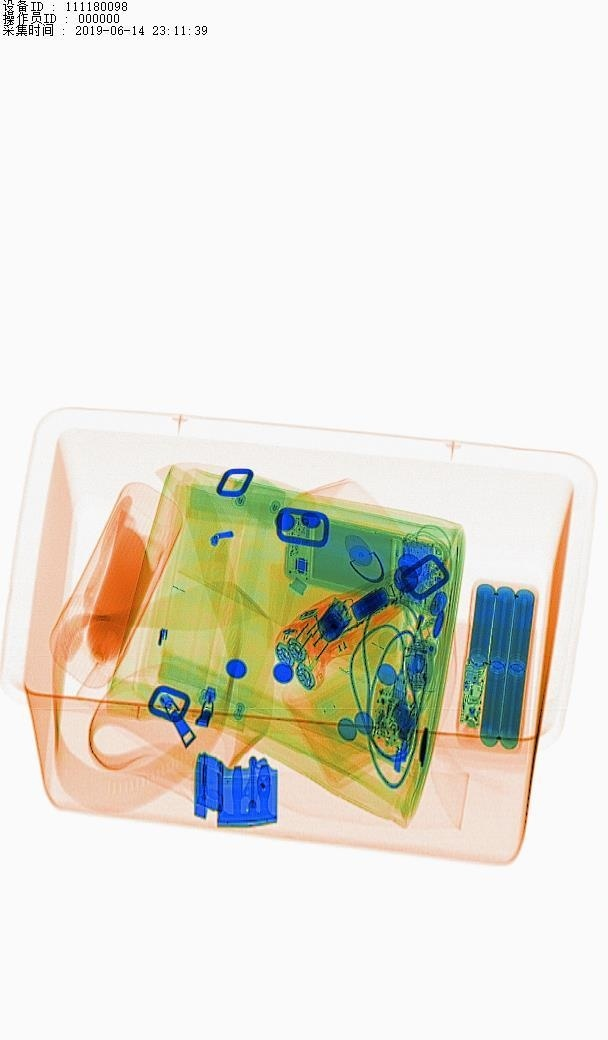NonmetallicFire: (391, 588, 446, 712)
